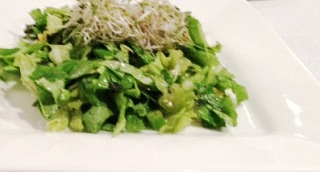chopped lettuce: (34, 36, 230, 135)
